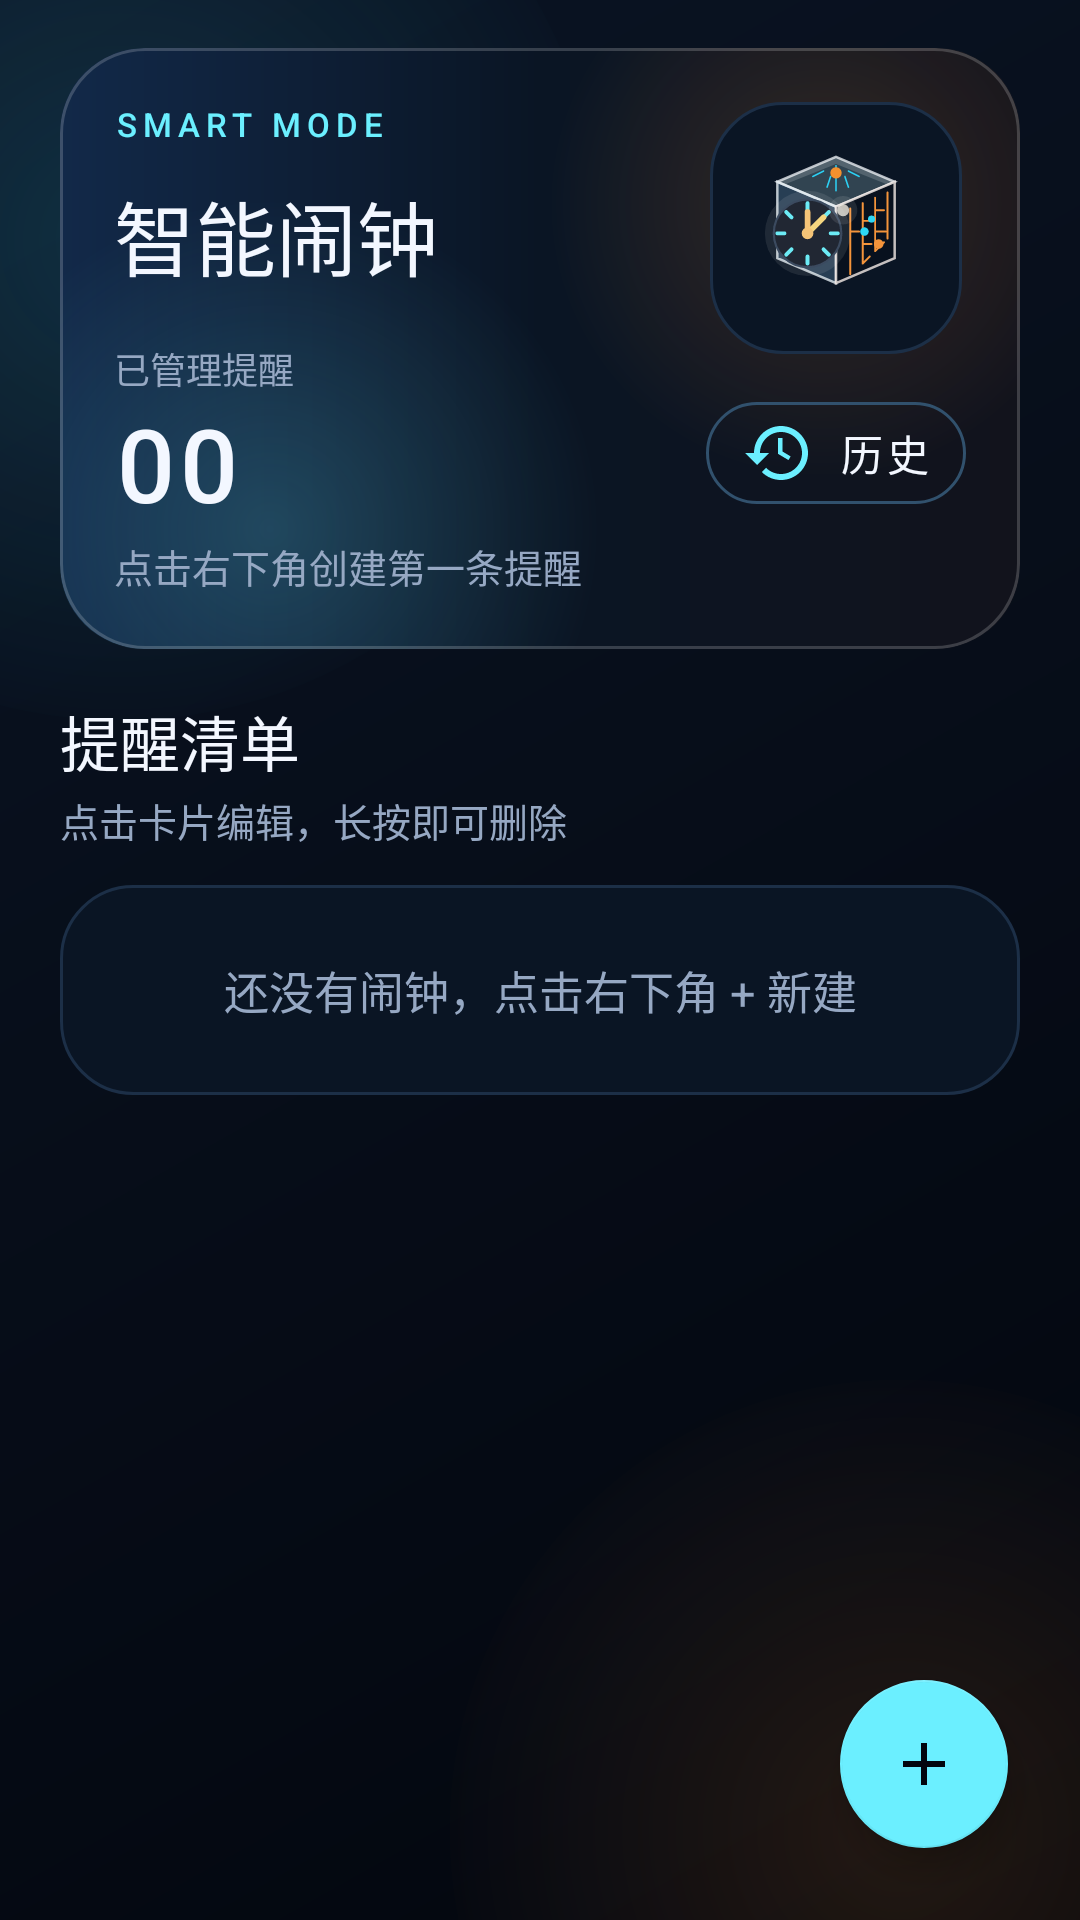

Screen size 1080×1920. Icon name, then its box in pixels as (x1, y1, x2, y2):
添加: (840, 1680, 1008, 1848)
